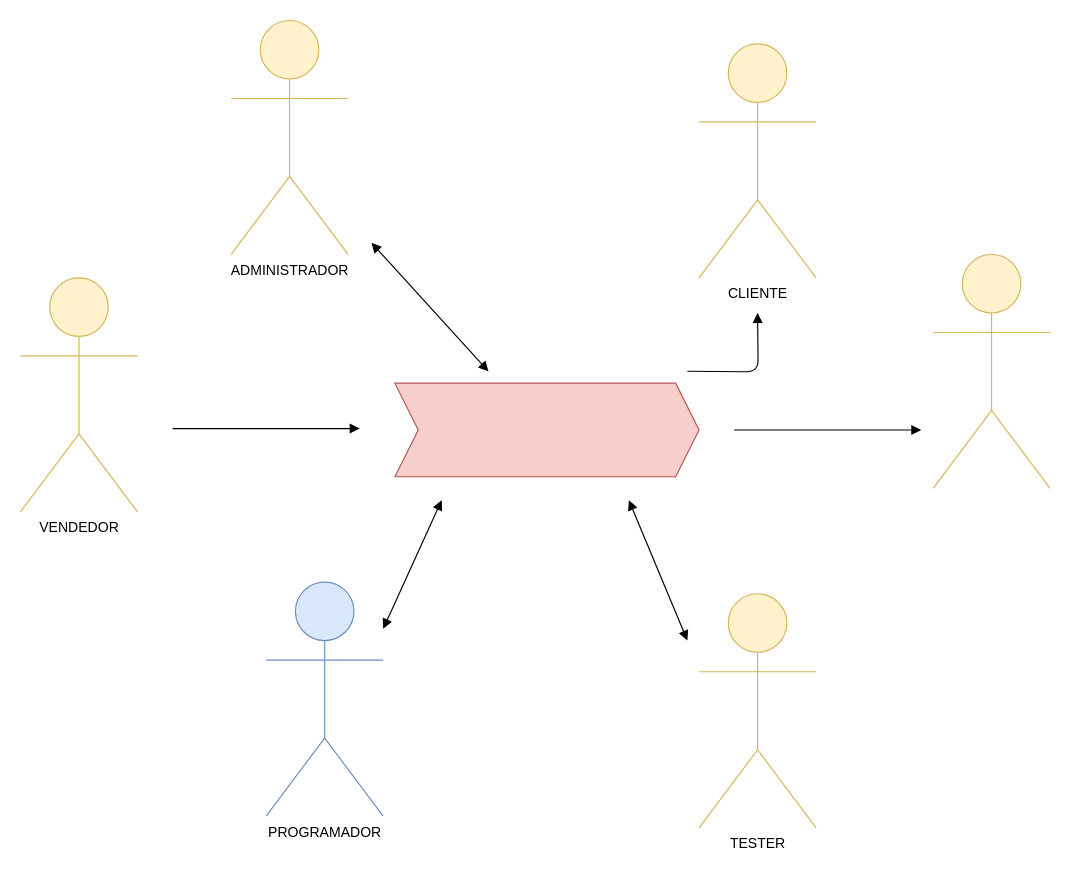
Some shapes in this 1071 by 873 pixel diagram are drawn without their labels. The shapes that lost their labels are listed below. From the top down, each one's box as (x1, y1, x2, y2) in pixels, then its label:
(932, 253, 1050, 488): REPORTEADOR
(394, 382, 699, 477): SISTEMA PUNTO DE VENTA
